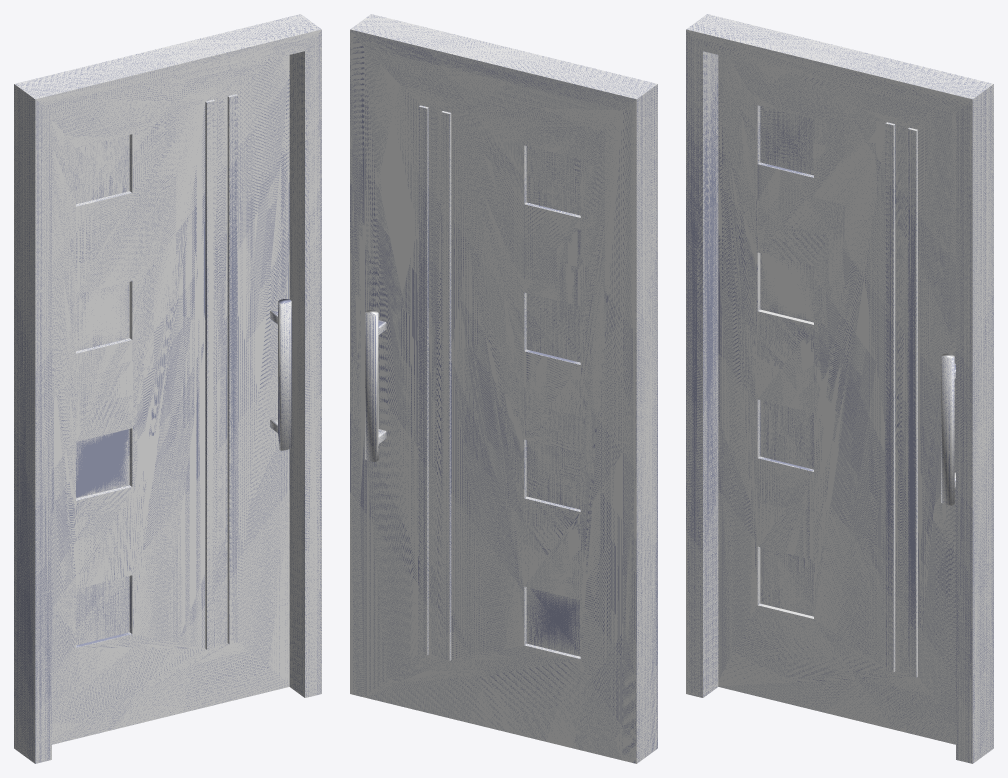
The picture shows the model from 3 angles, left to right: view 1: azimuth 30°, elevation 25°; view 2: azimuth 150°, elevation 25°; view 3: azimuth 330°, elevation 25°; orthographic projection.
Parts seen in each view (by area): view 1: Group6, Group1, Group7, Group5; view 2: Group6, Group1, Group7, Group4; view 3: Group6, Group1, Group7, Group5.
Part boxes in pixels (x1,y1,x2,y2): Group6: (52,55,289,744); Group1: (14,14,321,763); Group7: (76,135,129,645); Group5: (270,299,291,450); Group6: (364,47,622,760); Group1: (350,14,657,763); Group7: (526,146,580,656); Group4: (365,310,386,461); Group6: (718,55,955,744); Group1: (686,14,993,763); Group7: (760,106,813,616); Group5: (941,353,955,505).
Size of the model in its own units: 102 by 226 by 20.
